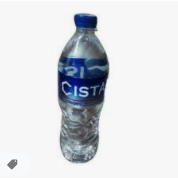Bottle: (60, 13, 110, 165)
